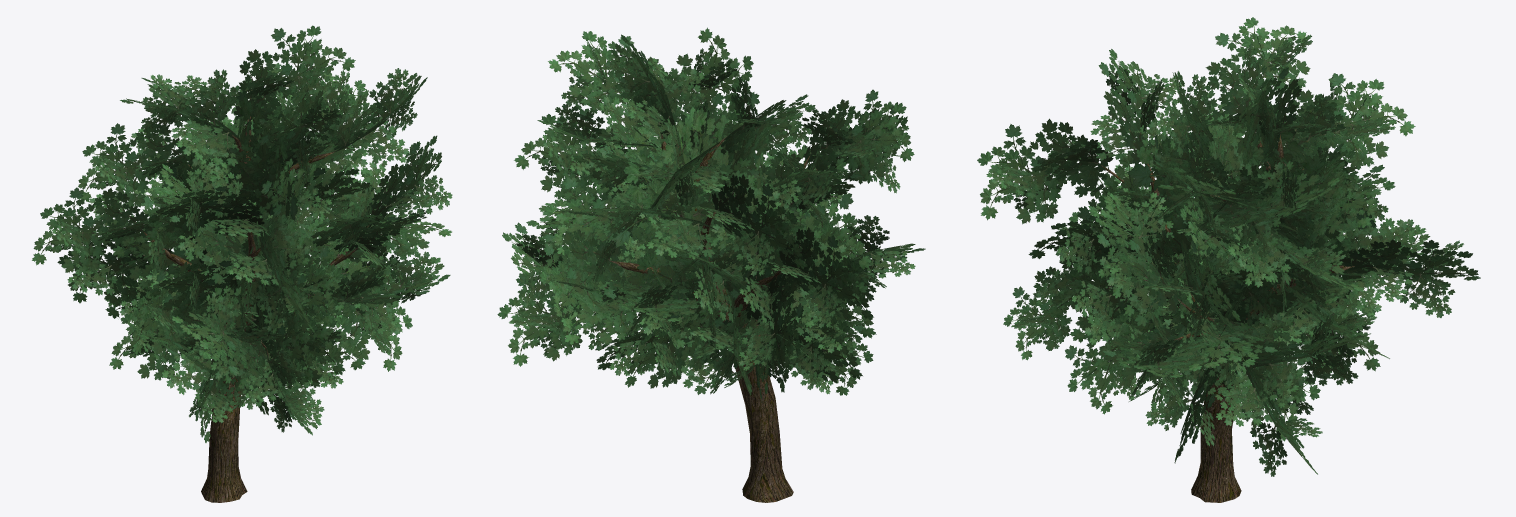
Rendered from tree_large01.dae.
The picture shows the model from 3 angles, left to right: view 1: azimuth 30°, elevation 25°; view 2: azimuth 150°, elevation 25°; view 3: azimuth 270°, elevation 25°; orthographic projection. The views are drawn at different scales.
Visible parts, largest first — view 1: branches, tree; view 2: branches, tree; view 3: branches, tree.
Boxes of the visible parts, left/top/right/bottom form: branches: left=32, top=25, right=452, bottom=442; tree: left=143, top=116, right=369, bottom=502; branches: left=497, top=27, right=925, bottom=402; tree: left=610, top=134, right=828, bottom=502; branches: left=977, top=17, right=1480, bottom=476; tree: left=1099, top=134, right=1354, bottom=502.
Bounding box in the file's own units: 32.54 × 33.41 × 33.86.
